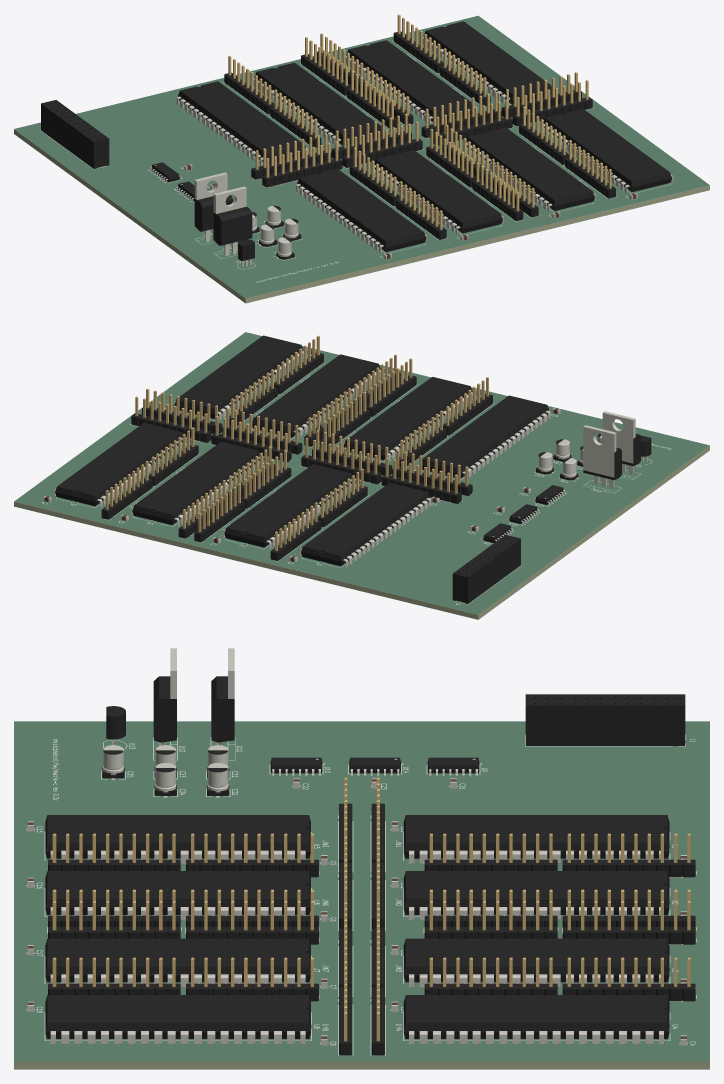
File: musicbrain-matrix-c.glb
The picture shows the model from 3 angles, top to bottom: view 1: azimuth 30°, elevation 25°; view 2: azimuth 150°, elevation 25°; view 3: azimuth 270°, elevation 25°; orthographic projection. The views are drawn at different scales.
Visible parts, largest first — view 1: =>[0:1:1:19], =>[0:1:1:21], =>[0:1:1:3] (×8), =>[0:1:1:5] (×24), =>[0:1:1:13] (×2), =>[0:1:1:9], =>[0:1:1:18]; view 2: =>[0:1:1:19], =>[0:1:1:21], =>[0:1:1:3] (×8), =>[0:1:1:5] (×24), =>[0:1:1:13] (×2), =>[0:1:1:9], =>[0:1:1:18]; view 3: =>[0:1:1:19], =>[0:1:1:21], =>[0:1:1:3] (×8), =>[0:1:1:5] (×24), =>[0:1:1:9], =>[0:1:1:18], =>[0:1:1:13] (×2), =>[0:1:1:11] (×3), =>[0:1:1:17] (×3), =>[0:1:1:20], =>[0:1:1:15].
Part boxes in pixels (box(x1,y1,x2,y2)): =>[0:1:1:19]: box(14, 15, 709, 298); =>[0:1:1:21]: box(14, 16, 709, 303); =>[0:1:1:3] (×8): box(176, 21, 673, 253); =>[0:1:1:5] (×24): box(224, 14, 615, 239); =>[0:1:1:13] (×2): box(194, 172, 252, 256); =>[0:1:1:9]: box(41, 100, 109, 168); =>[0:1:1:18]: box(41, 40, 671, 282); =>[0:1:1:19]: box(14, 332, 709, 614); =>[0:1:1:21]: box(14, 333, 709, 619); =>[0:1:1:3] (×8): box(53, 335, 550, 567); =>[0:1:1:5] (×24): box(101, 335, 492, 560); =>[0:1:1:13] (×2): box(583, 411, 640, 488); =>[0:1:1:9]: box(452, 535, 520, 603); =>[0:1:1:18]: box(42, 355, 671, 604); =>[0:1:1:19]: box(14, 721, 709, 1061); =>[0:1:1:21]: box(14, 722, 709, 1069); =>[0:1:1:3] (×8): box(45, 815, 669, 1044); =>[0:1:1:5] (×24): box(48, 777, 695, 1055); =>[0:1:1:9]: box(525, 694, 685, 745); =>[0:1:1:18]: box(26, 734, 696, 1055); =>[0:1:1:13] (×2): box(153, 648, 234, 745); =>[0:1:1:11] (×3): box(270, 757, 479, 776); =>[0:1:1:17] (×3): box(102, 745, 229, 797); =>[0:1:1:20]: box(14, 1069, 709, 1069); =>[0:1:1:15]: box(106, 706, 125, 744).
Bounding box in the file's own units: 0.154 × 0.0285 × 0.133.
